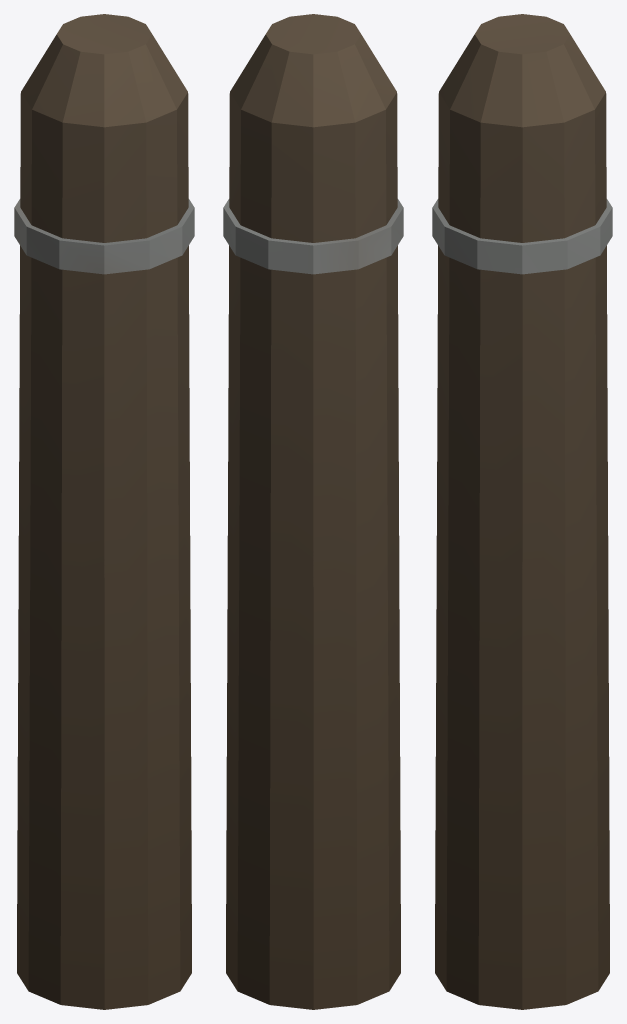
Rendered from boat_launch_bollard.glb.
3 renders of one model, left to right at view 1: azimuth 30°, elevation 25°; view 2: azimuth 150°, elevation 25°; view 3: azimuth 270°, elevation 25°, orthographic.
Visible parts, largest first — view 1: boat_launch_bollard_LOD0; view 2: boat_launch_bollard_LOD0; view 3: boat_launch_bollard_LOD0.
Part boxes in pixels (x1,y1,x2,y2): boat_launch_bollard_LOD0: (14,14,194,1009); boat_launch_bollard_LOD0: (223,14,403,1009); boat_launch_bollard_LOD0: (432,14,612,1009).
Size of the model in its own units: 0.226 by 1.3 by 0.226.
